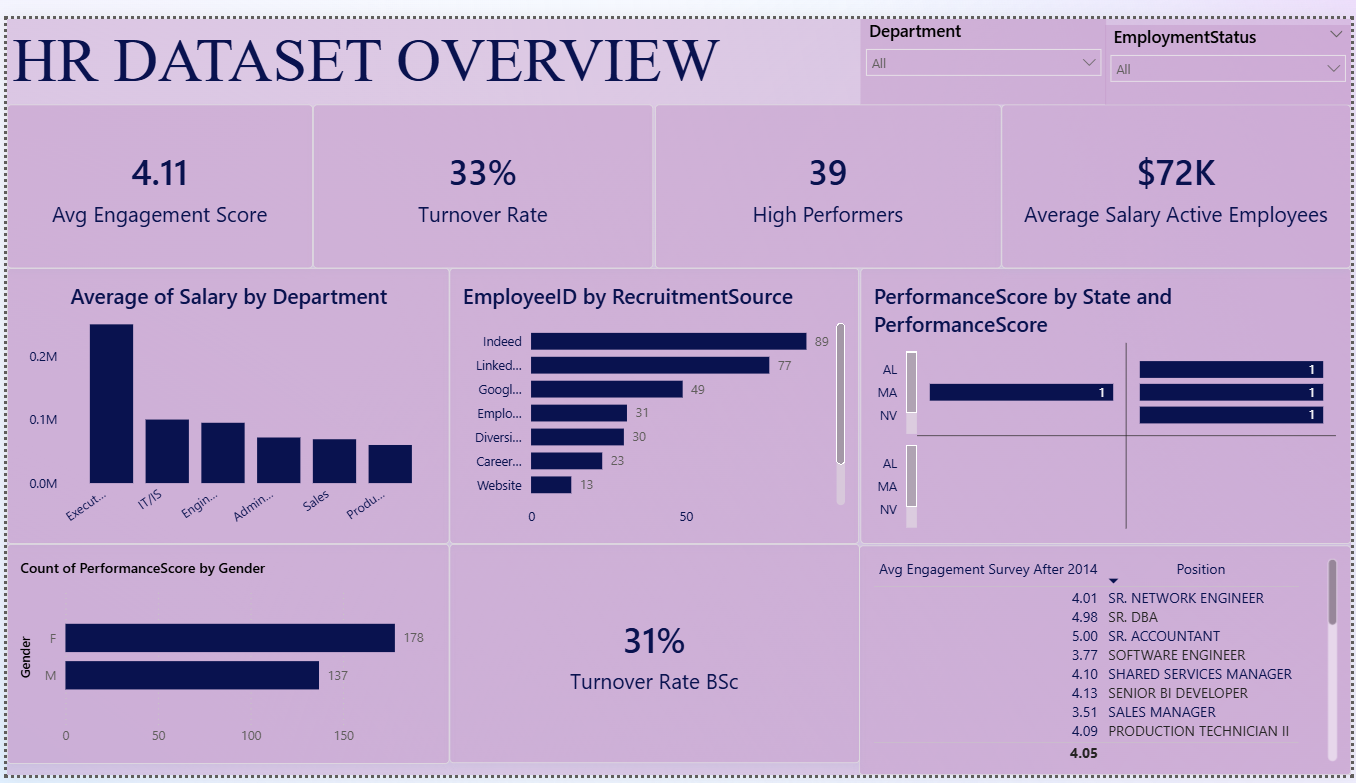

This screenshot's page, from the dashboard's own definition file:
{"tool":"powerbi","page":{"name":"Page 1","canvas":[1280,720],"ordinal":0},"visuals":[{"type":"card","fields":{"Values":["HR Dataset.Turnover Rate"]},"box":[291.4,81.4,324.3,155.7],"z":0},{"type":"card","fields":{"Values":["HR Dataset.Avg Engagement Score"]},"box":[0,81.4,291.4,155.7],"z":1000},{"type":"card","fields":{"Values":["HR Dataset.High Performers"]},"box":[617.1,81.4,330,155.7],"z":2000},{"type":"clusteredColumnChart","fields":{"Category":["HR Dataset.Department"],"Y":["Avg(HR Dataset.Salary)"]},"box":[0,237.1,421.4,262.9],"z":3000},{"type":"barChart","title":"EmployeeID by RecruitmentSource","fields":{"Category":["HR Dataset.RecruitmentSource"],"Y":["CountNonNull(HR Dataset.EmployeeID)"]},"box":[421.4,237.1,390,262.9],"z":4000},{"type":"barChart","title":"PerformanceScore by State and PerformanceScore","fields":{"Category":["HR Dataset.State"],"Y":["Count(HR Dataset.PerformanceScore)"],"Rows":["HR Dataset.PerformanceScore"]},"box":[812.9,237.1,467.1,262.9],"z":5000},{"type":"card","fields":{"Values":["HR Dataset.Average Salary Active Employees"]},"box":[947.1,81.4,332.9,155.7],"z":6000},{"type":"tableEx","fields":{"Values":["HR Dataset.Avg Engagement Survey After 2014","HR Dataset.Position"]},"box":[811.1,501.1,468.9,218.9],"z":7000},{"type":"card","fields":{"Values":["HR Dataset.Turnover Rate BSc"]},"box":[421,500,390.8,208.9],"z":8000},{"type":"textbox","box":[0,0,701.6,81.1],"z":9000},{"type":"slicer","fields":{"Values":["HR Dataset.Department"]},"box":[812.9,0,234.3,81.4],"z":10000},{"type":"slicer","fields":{"Values":["HR Dataset.EmploymentStatus"]},"box":[1045.7,5.7,234.3,75.7],"z":11000},{"type":"barChart","fields":{"Category":["HR Dataset.Gender"],"Y":["CountNonNull(HR Dataset.PerformanceScore)"]},"box":[0,500,421,209],"z":12000}]}

Visuals, with their boxes in screenshot pixels (x1, y1, x2, y2), scaled from the page's 1280x720 canvas onto the 1356x783 screenshot:
card - HR Dataset.Turnover Rate: pyautogui.locateOnScreen(309, 89, 652, 258)
card - HR Dataset.Avg Engagement Score: pyautogui.locateOnScreen(0, 89, 309, 258)
card - HR Dataset.High Performers: pyautogui.locateOnScreen(654, 89, 1003, 258)
clusteredColumnChart - HR Dataset.Department x Avg(HR Dataset.Salary): pyautogui.locateOnScreen(0, 258, 446, 544)
"EmployeeID by RecruitmentSource" barChart: pyautogui.locateOnScreen(446, 258, 860, 544)
"PerformanceScore by State and PerformanceScore" barChart: pyautogui.locateOnScreen(861, 258, 1355, 544)
card - HR Dataset.Average Salary Active Employees: pyautogui.locateOnScreen(1003, 89, 1355, 258)
tableEx - HR Dataset.Avg Engagement Survey After 2014 x HR Dataset.Position: pyautogui.locateOnScreen(859, 545, 1355, 782)
card - HR Dataset.Turnover Rate BSc: pyautogui.locateOnScreen(446, 544, 860, 771)
textbox: pyautogui.locateOnScreen(0, 0, 743, 88)
slicer - HR Dataset.Department: pyautogui.locateOnScreen(861, 0, 1109, 89)
slicer - HR Dataset.EmploymentStatus: pyautogui.locateOnScreen(1108, 6, 1355, 89)
barChart - HR Dataset.Gender x CountNonNull(HR Dataset.PerformanceScore): pyautogui.locateOnScreen(0, 544, 446, 771)
